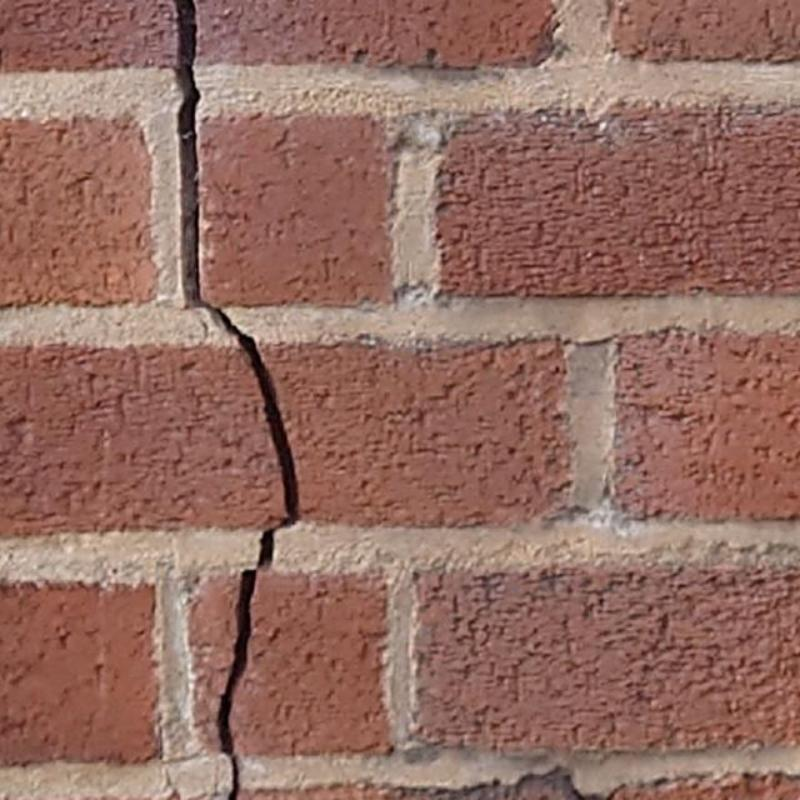crack: (175, 0, 300, 570), (219, 570, 255, 799)
